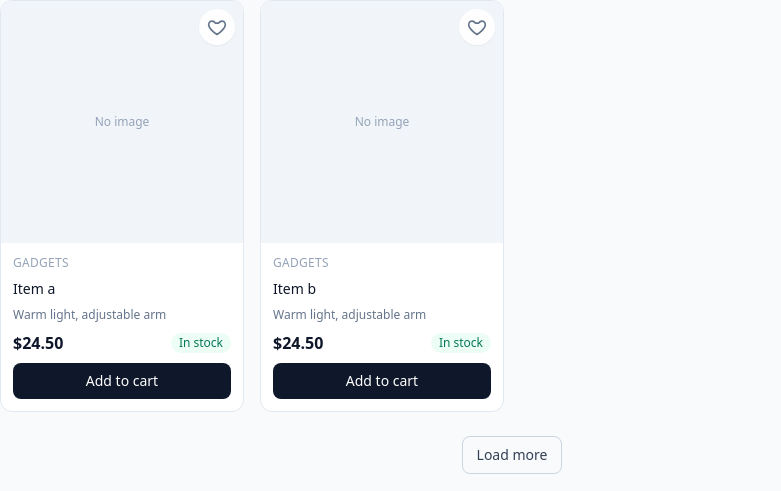
it: ProductGrid › loads the next page with the cursor and the same filters, without duplicates
This screenshot has width=781, height=491.
Click the button "Load more" at (512, 455), box [462, 436, 562, 474]
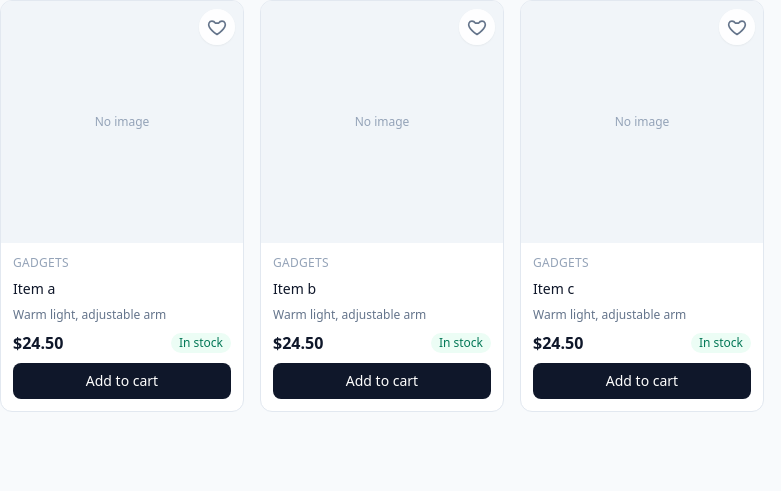
Check: the button "Load more" is gone
